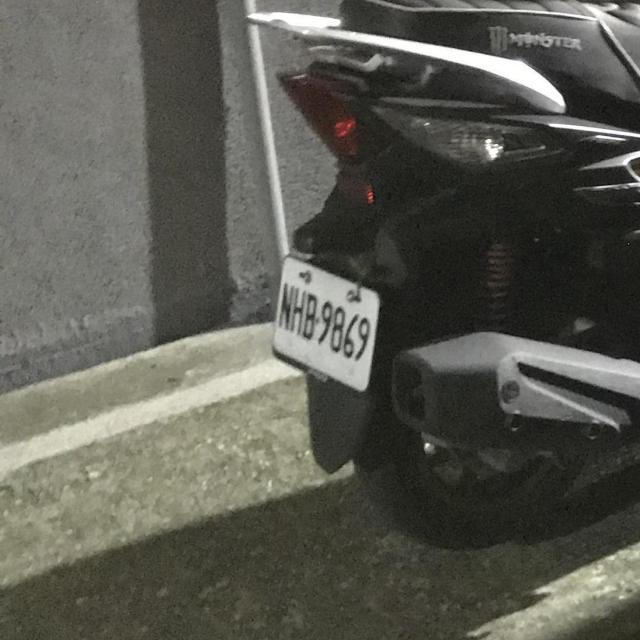W: (258, 243, 391, 402)
